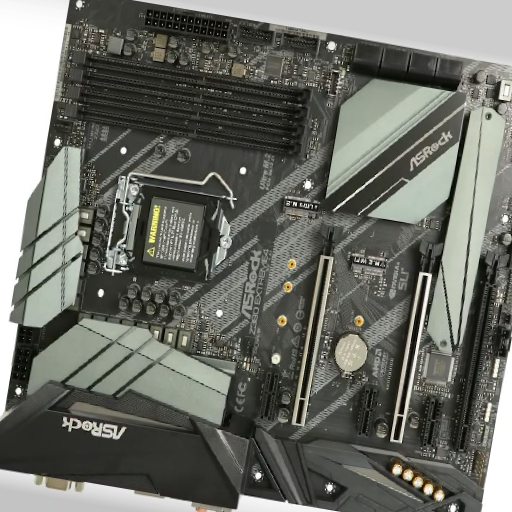CPU: (119, 178, 235, 277)
GPU: (291, 222, 346, 428), (390, 241, 444, 443), (455, 254, 509, 455)
MOTHERBOARD: (8, 2, 508, 512)
RAM: (62, 48, 322, 164)
SSD: (349, 248, 390, 282), (283, 194, 321, 221)
